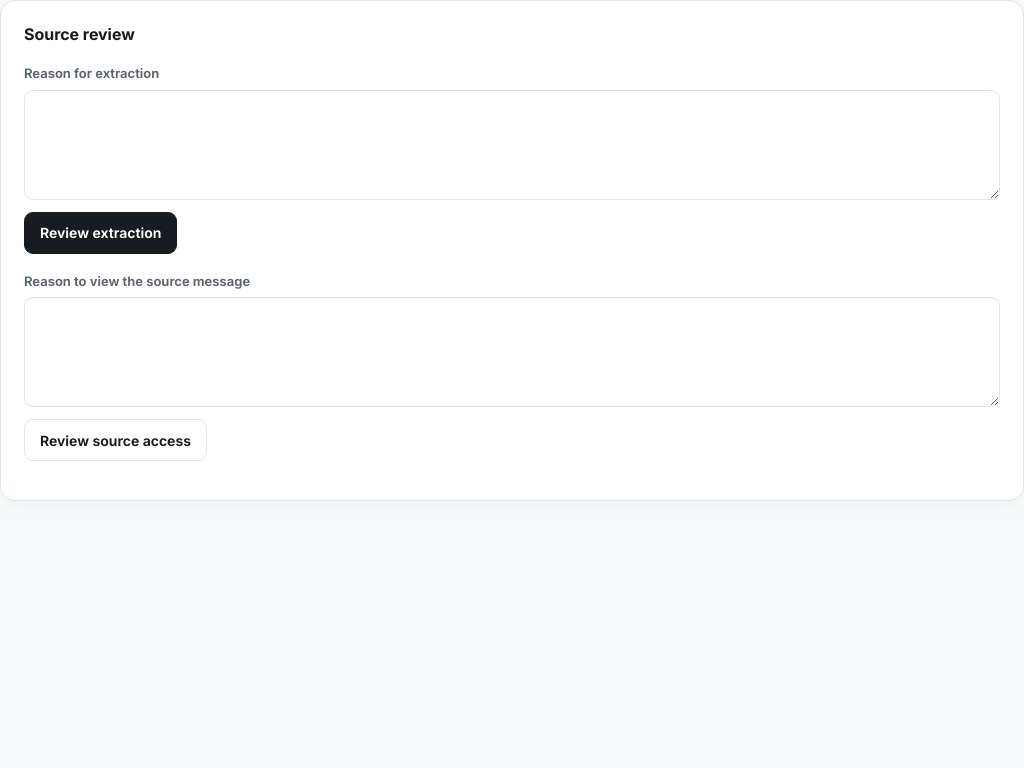
Test: SMS source action panel › requires explicit review and confirmation before an enabled extraction
The width and height of the screenshot is (1024, 768).
Type "Review source evidence" into the text box labelled "Reason for extraction" at (512, 144), box left=24, top=90, right=1000, bottom=200
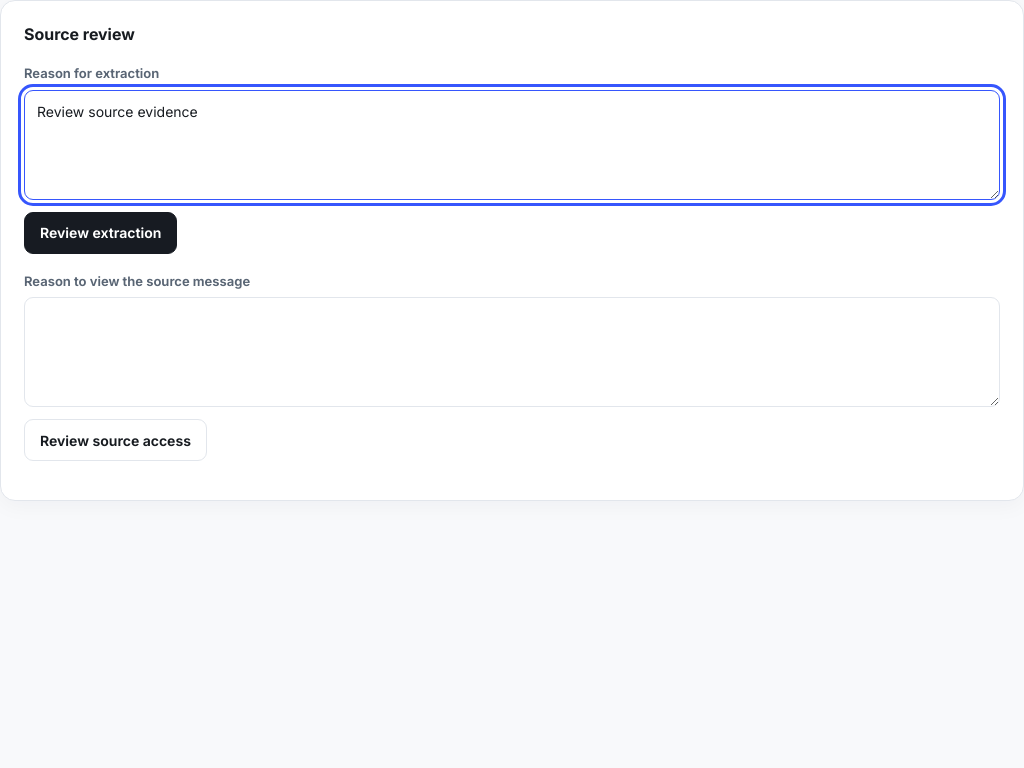
Click the button "Review extraction" at (101, 232), box left=24, top=212, right=178, bottom=254
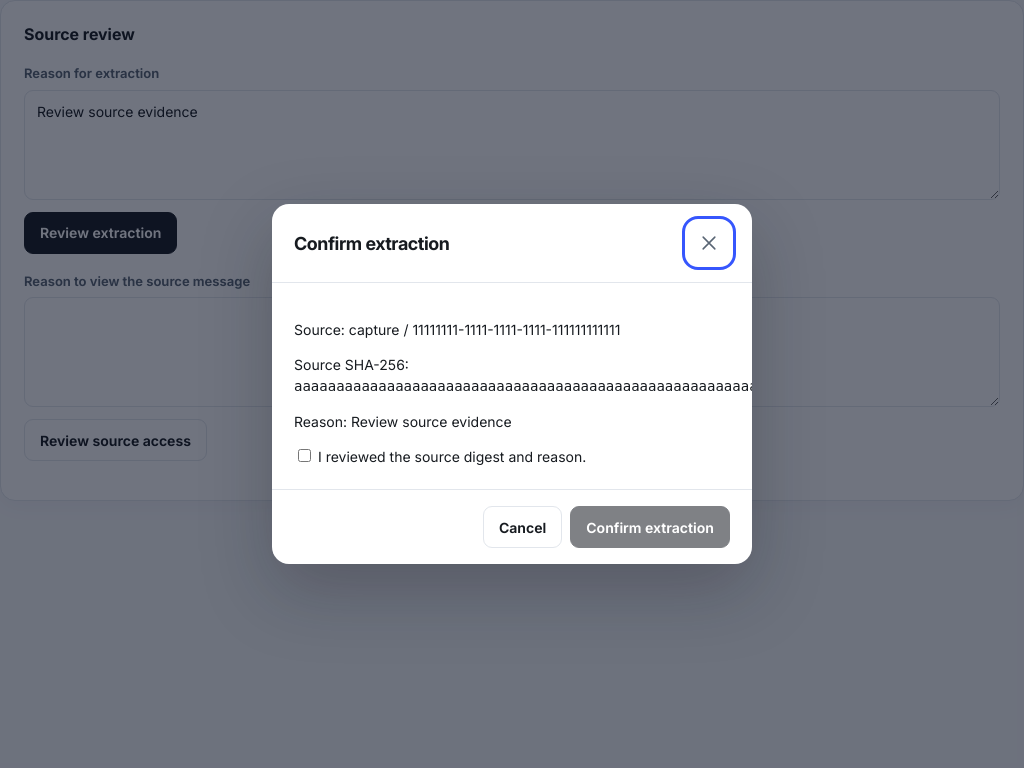
Now the button "Confirm extraction" is disabled, box left=570, top=506, right=730, bottom=548
Click the checkbox labelled "I reviewed the source digest and reason." at (304, 456), box left=298, top=449, right=311, bottom=462
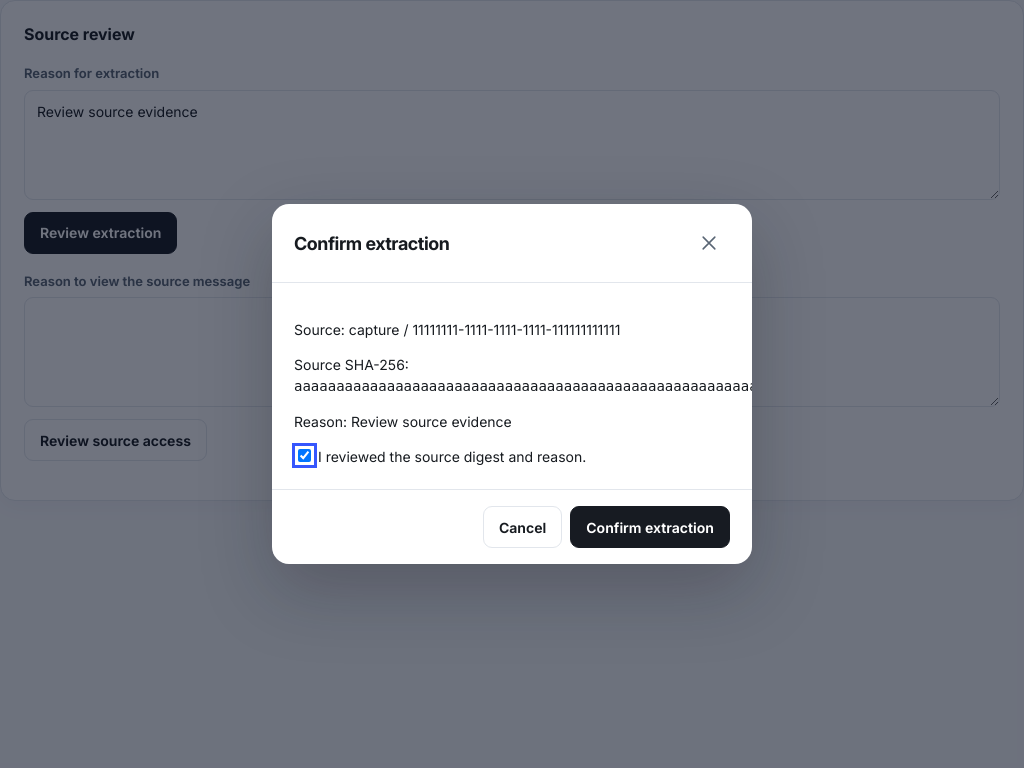
Click the button "Confirm extraction" at (650, 527), box left=570, top=506, right=730, bottom=548
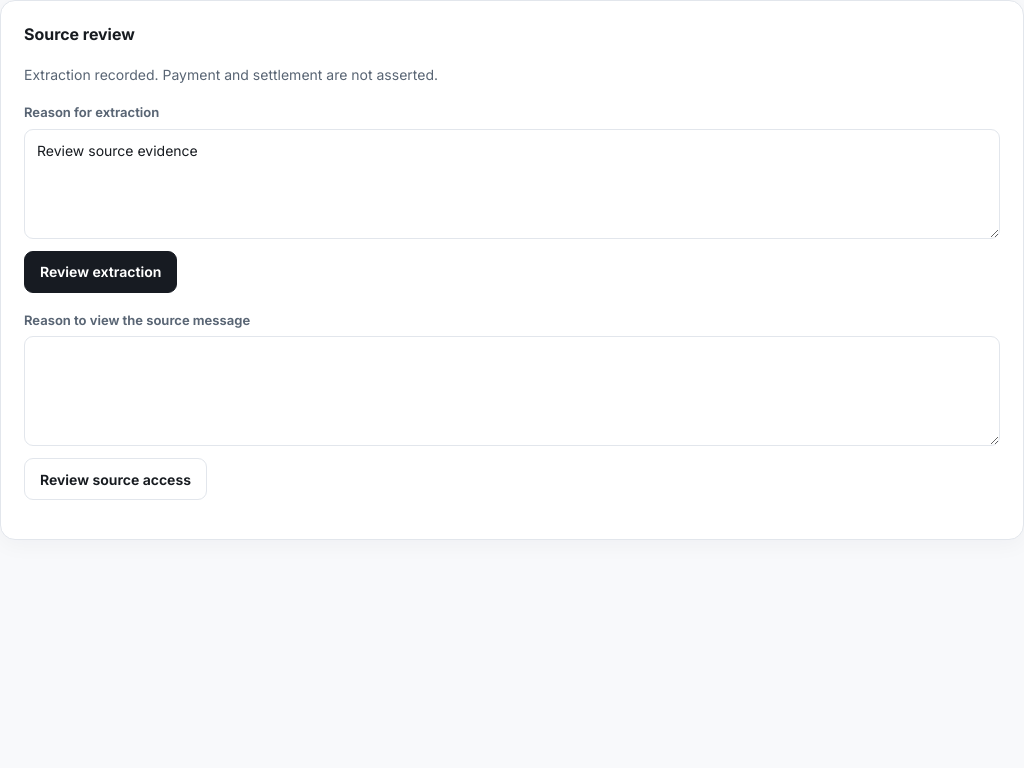
Now the text "Extraction recorded. Payment and settlement are not asserted." is shown, box left=24, top=66, right=438, bottom=83
